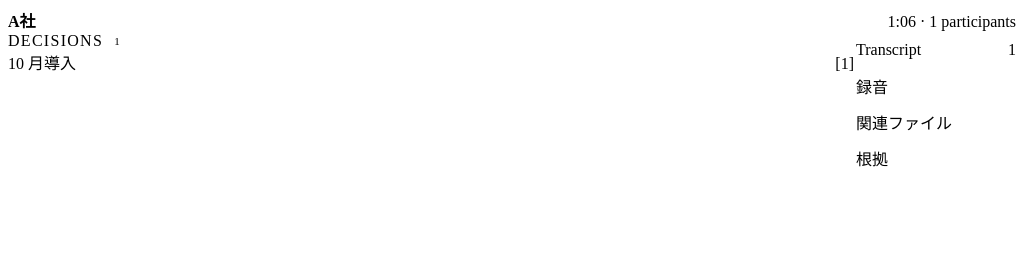
Test: AC-08 / AC-09: the meeting surface and its minutes › AC-09: a claim jumps to the transcript line behind it
The image size is (1024, 262).
Click the button named "根拠 1 を見る".
click(845, 64)  # box [833, 55, 856, 73]
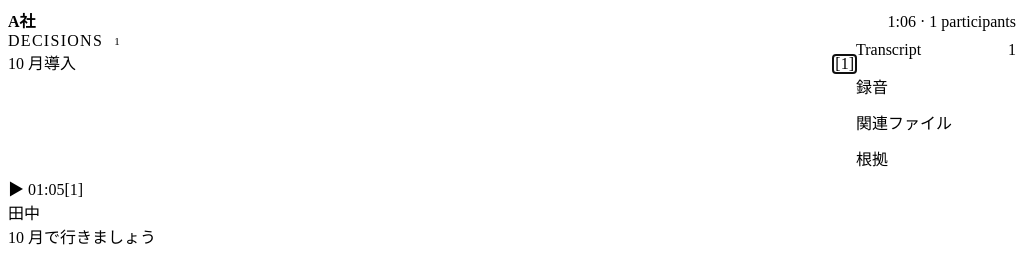
Check: the element named "根拠" shows "01:05", box [28, 181, 64, 198]
Check: the element named "根拠" shows "田中", box [8, 205, 40, 222]
